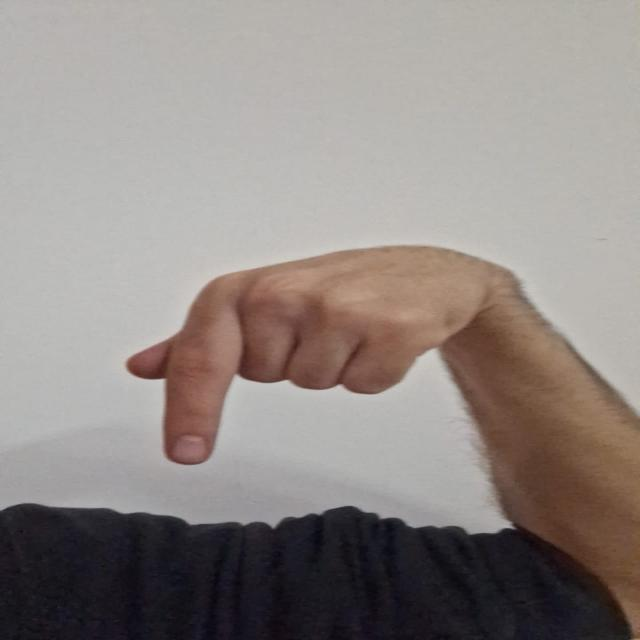Q: (122, 245, 474, 472)
